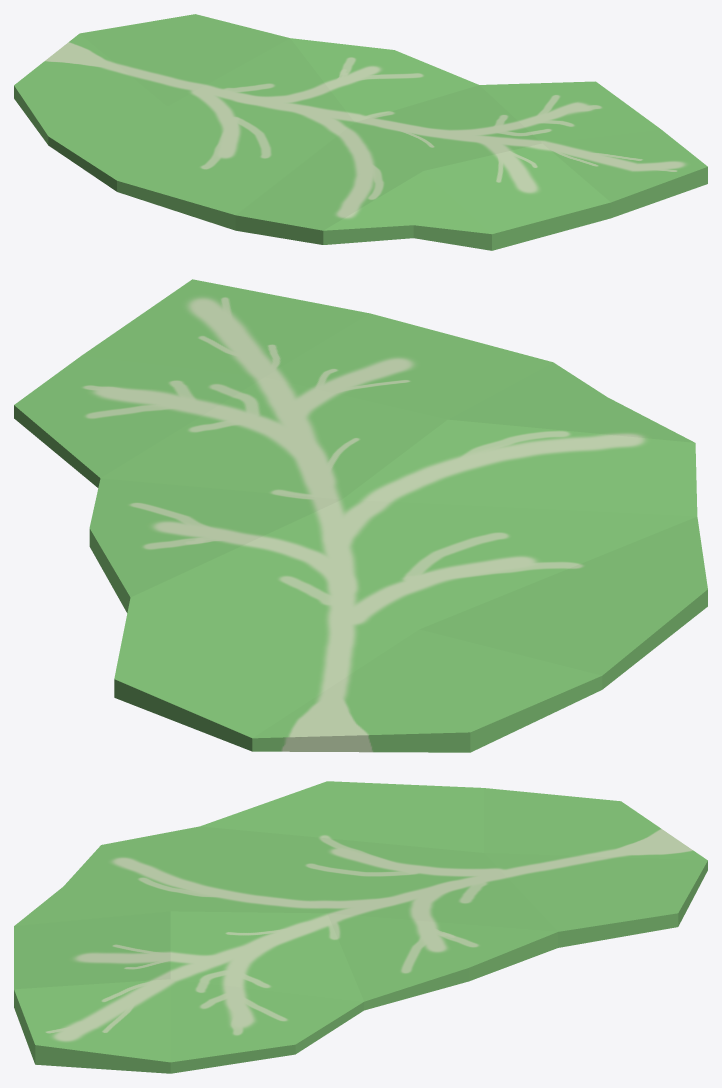
Rendered from Lettuce.fbx.
3 views of the same model, one above another, from view 1: azimuth 30°, elevation 25°; view 2: azimuth 150°, elevation 25°; view 3: azimuth 270°, elevation 25° (orthographic). The views are drawn at different scales.
Visible parts, largest first — view 1: Lettuce; view 2: Lettuce; view 3: Lettuce.
Boxes of the visible parts, x1=… form: Lettuce: x1=14, y1=14, x2=707, y2=250; Lettuce: x1=14, y1=279, x2=707, y2=752; Lettuce: x1=14, y1=781, x2=707, y2=1073.
Bounding box in the file's own units: 17.74 × 1.07 × 19.65.
